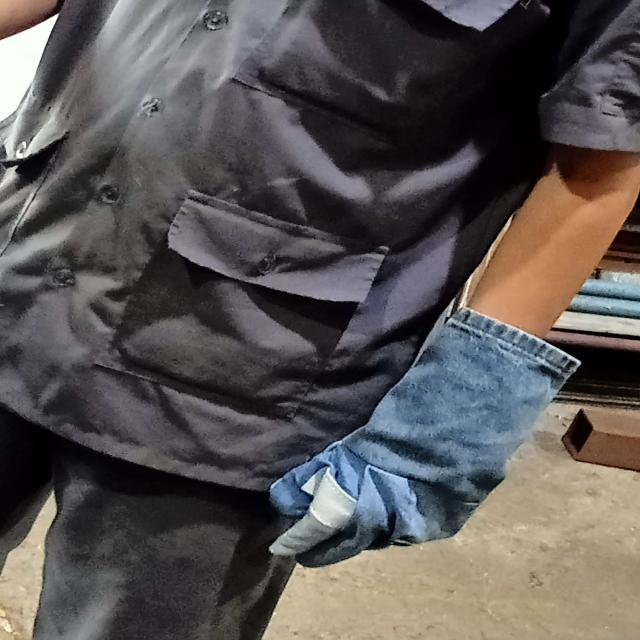Gloves-Detection: (285, 324, 575, 556)
